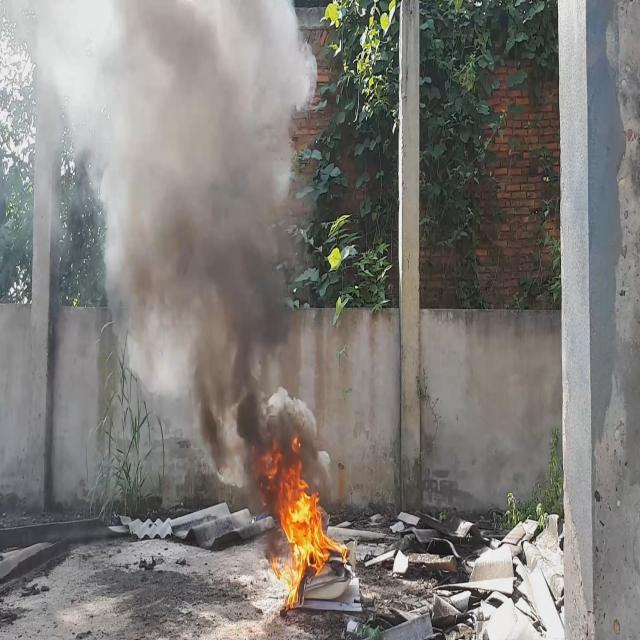Fire: (260, 444, 346, 618)
Smoke: (0, 0, 337, 507)
